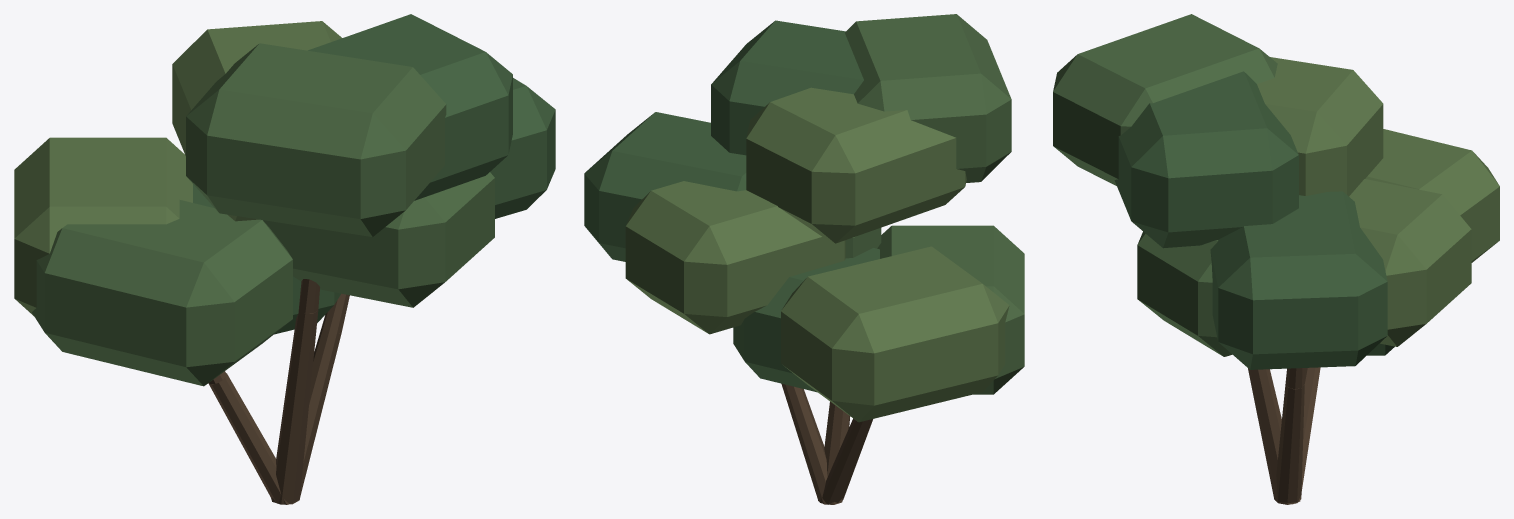
The model's file is blueberry_young_summer.glb.
3 views of the same model, side by side, from view 1: azimuth 30°, elevation 25°; view 2: azimuth 150°, elevation 25°; view 3: azimuth 270°, elevation 25° (orthographic). The views are drawn at different scales.
Parts seen in each view (by area): view 1: blueberry_young_summer; view 2: blueberry_young_summer; view 3: blueberry_young_summer.
Part boxes in pixels (x1,y1,x2,y2): blueberry_young_summer: [14, 14, 555, 504]; blueberry_young_summer: [584, 14, 1024, 504]; blueberry_young_summer: [1053, 14, 1499, 504].
Size of the model in its own units: 0.839 by 0.7926 by 0.7423.
